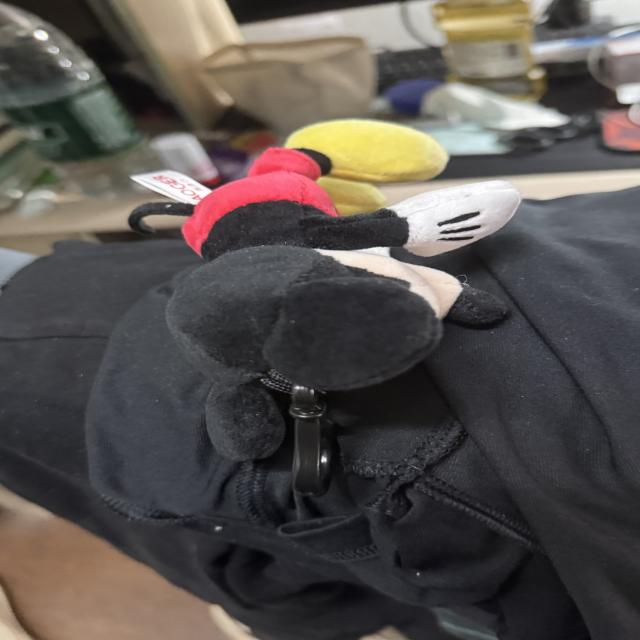mickey: (130, 149, 520, 459)
